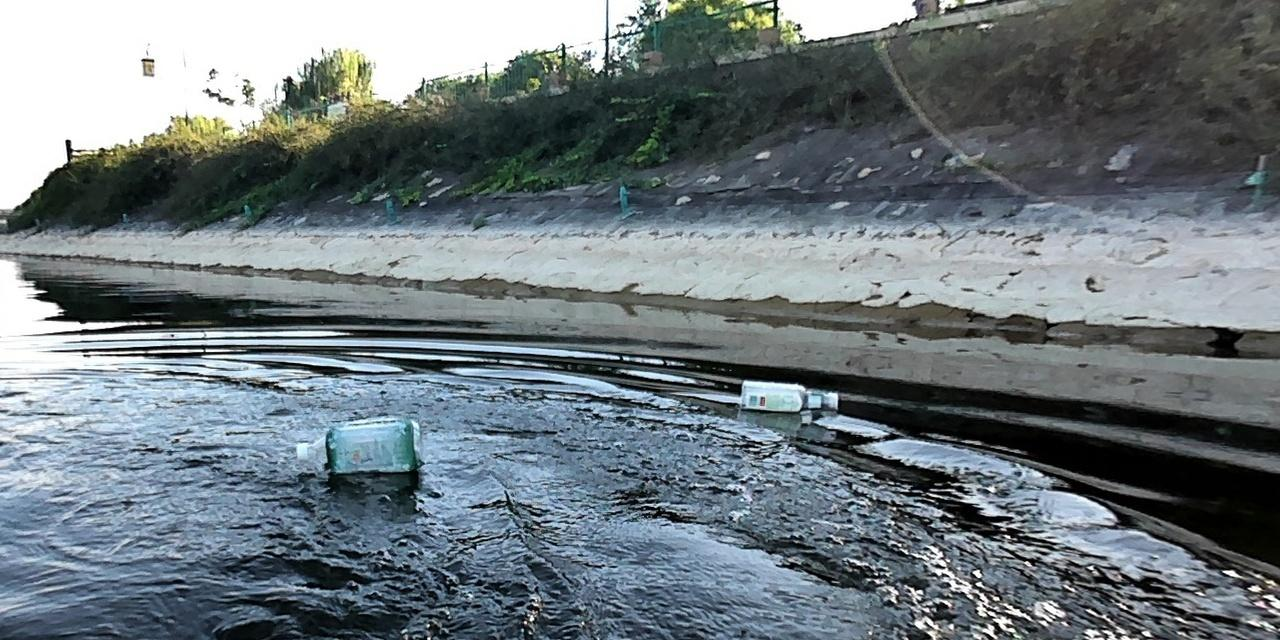bottle: (290, 413, 430, 481), (736, 372, 842, 415)
